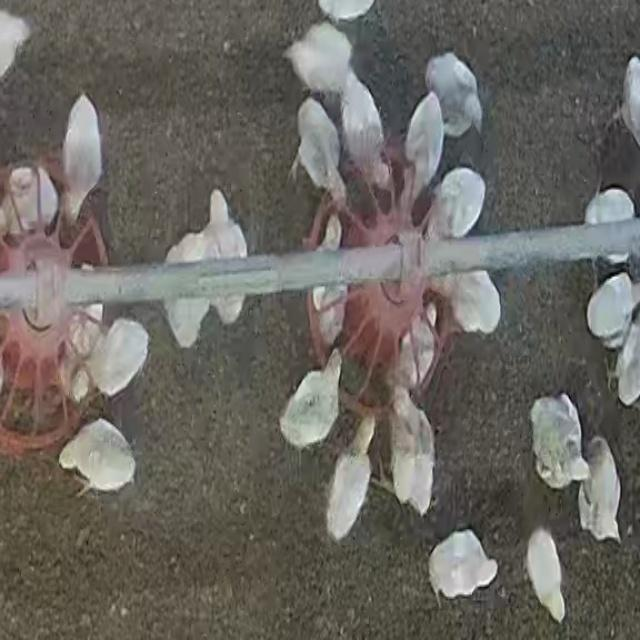chicken: (322, 413, 380, 542), (70, 316, 150, 408), (276, 348, 345, 450), (338, 69, 387, 207), (291, 94, 347, 214), (58, 418, 139, 499), (58, 87, 104, 228), (387, 391, 435, 520), (205, 188, 249, 324), (160, 231, 210, 349), (529, 392, 589, 490), (419, 52, 488, 136), (280, 20, 359, 91), (401, 91, 445, 216), (426, 529, 499, 603), (580, 430, 625, 545), (313, 217, 352, 346), (428, 167, 488, 243), (439, 269, 502, 338), (0, 163, 59, 235), (525, 529, 569, 623), (583, 187, 635, 261), (586, 274, 634, 346)
